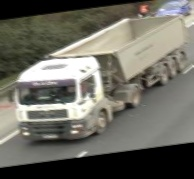truck: (7, 11, 194, 148)
